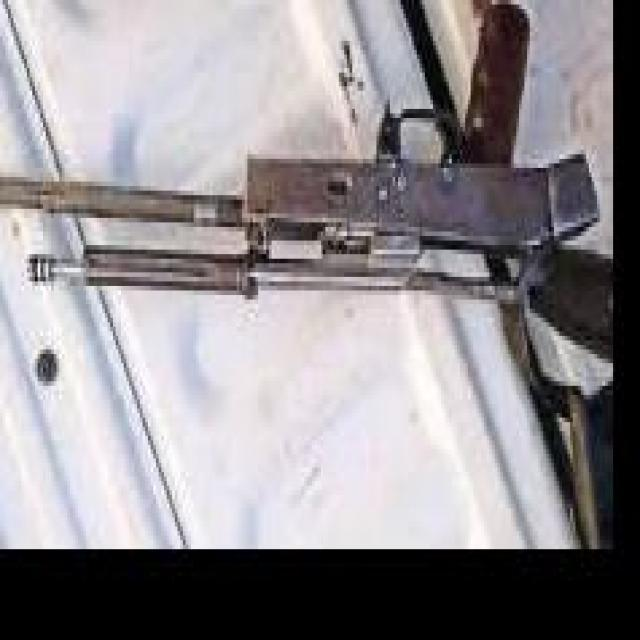weapon: (0, 0, 614, 371)
